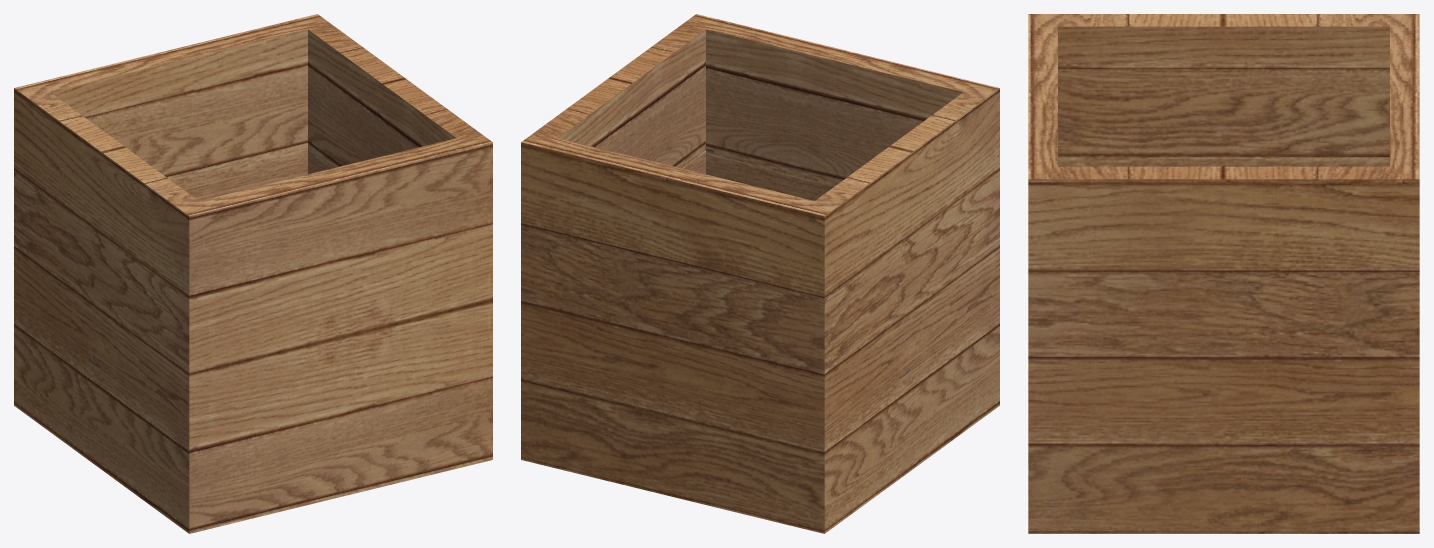
File: wood_box.obj
The picture shows the model from 3 angles, left to right: view 1: azimuth 30°, elevation 25°; view 2: azimuth 150°, elevation 25°; view 3: azimuth 270°, elevation 25°; orthographic projection. The views are drawn at different scales.
Visible parts, largest first — view 1: Cube.001; view 2: Cube.001; view 3: Cube.001.
Part boxes in pixels (x1,y1,x2,y2): Cube.001: (14, 14, 492, 533); Cube.001: (521, 14, 999, 533); Cube.001: (1028, 14, 1419, 533).
Bounding box in the file's own units: 2 × 2 × 2.
Materials: 1 (1 with a texture image).
